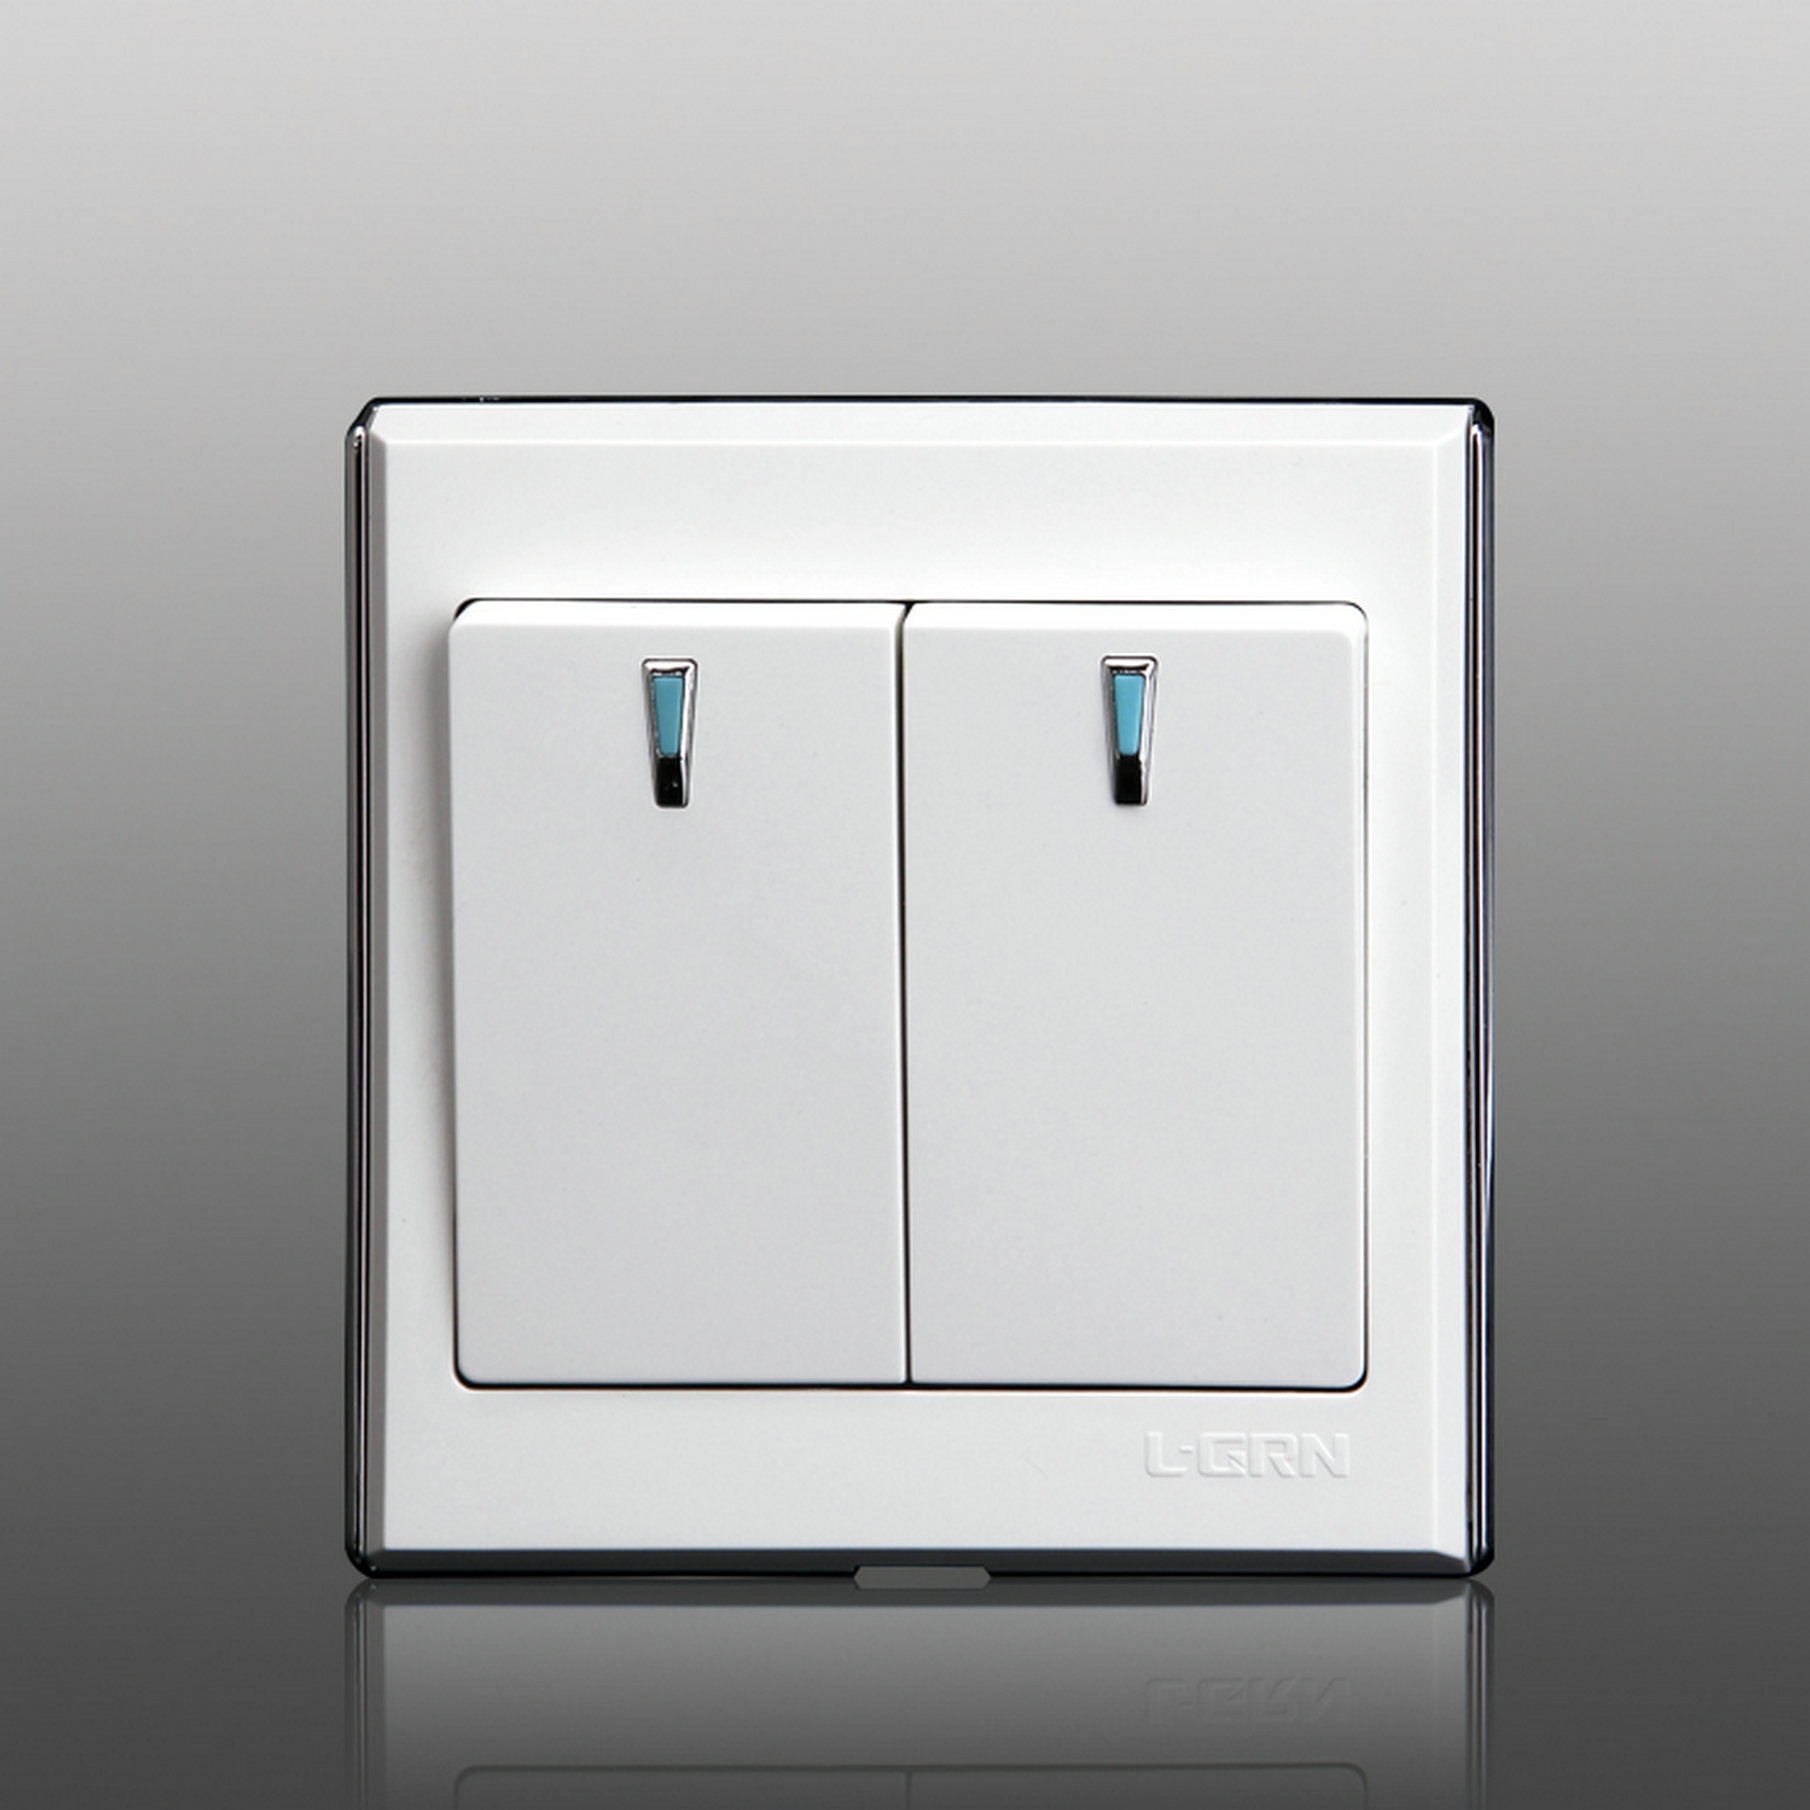button: (345, 391, 1493, 1576)
